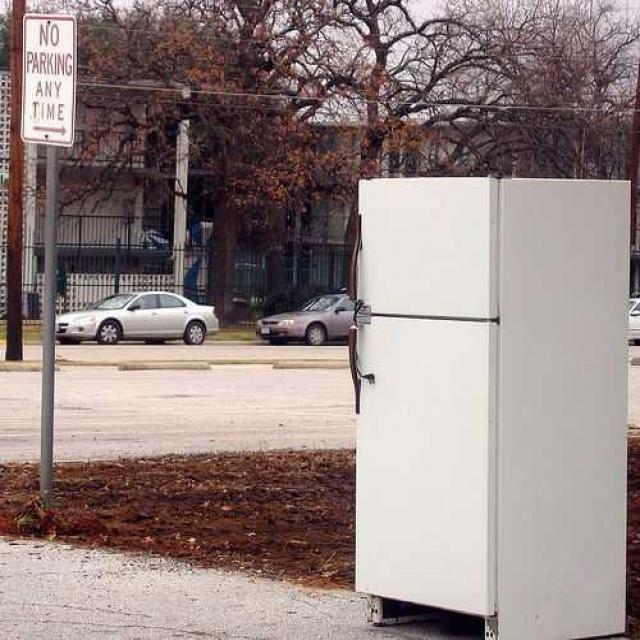refrigerator: (348, 186, 506, 630)
